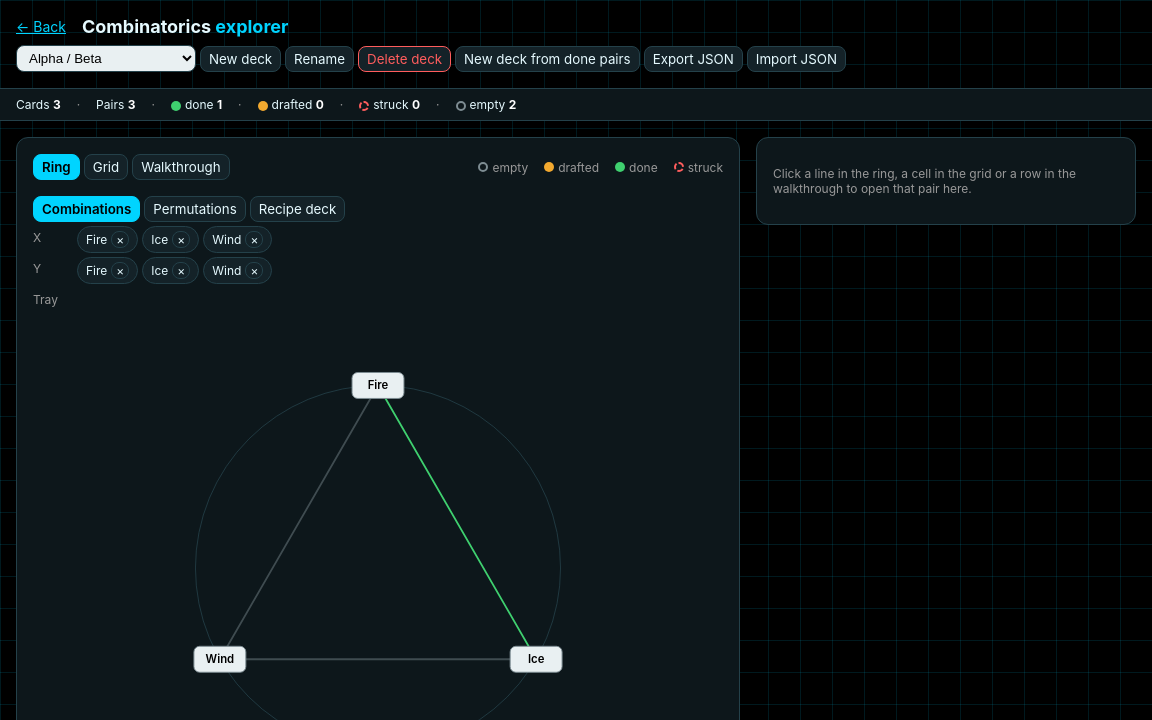
Scenario: CombinationsPage export failure › shows a failed export in exactly one alert
Click the button "Export JSON" at (693, 58), box [644, 46, 743, 72]
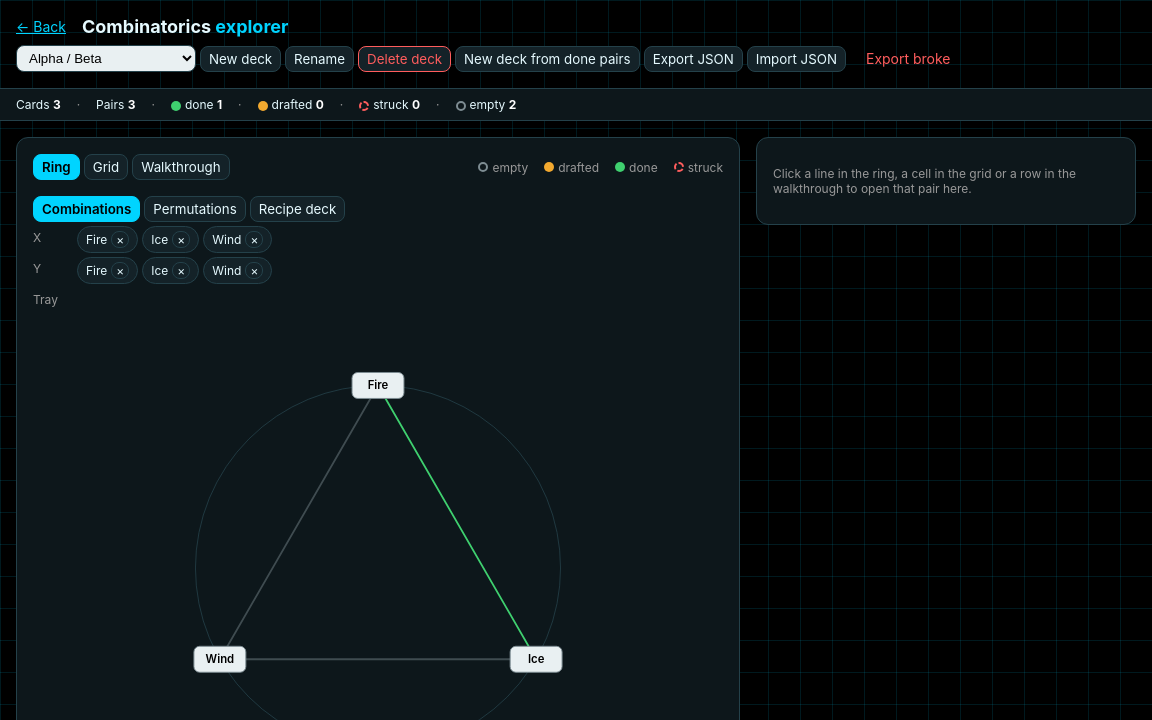
Check: the message reads "Export broke", box [866, 50, 951, 67]
Check: the number of messages is 1, box [866, 50, 951, 67]
